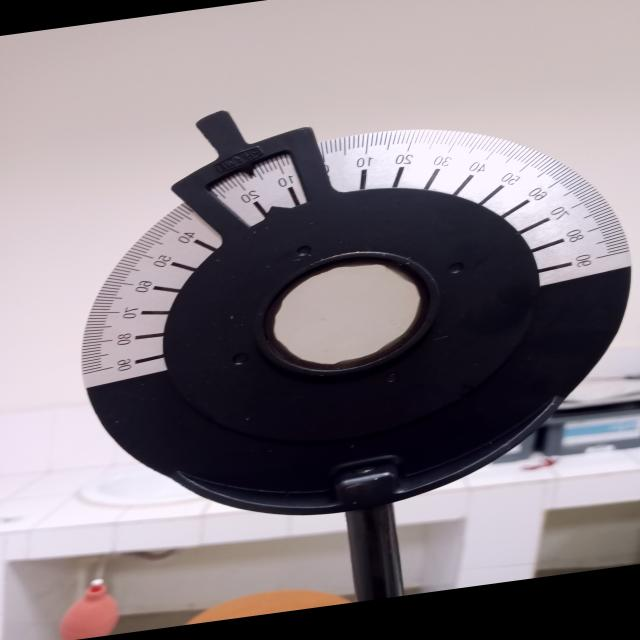Optical Polarizer: (38, 32, 640, 630)
